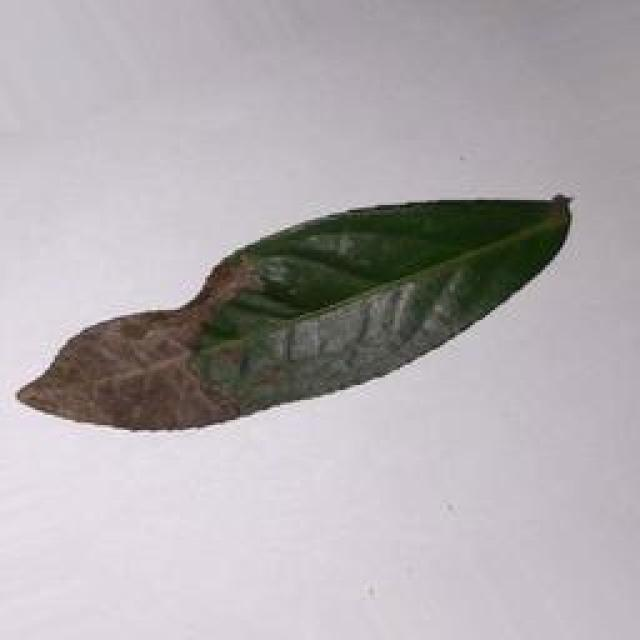Brown Blight: (16, 189, 607, 441)
